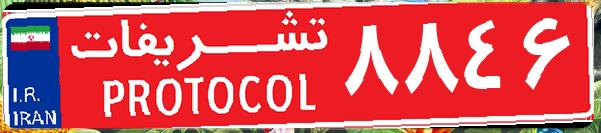4: (460, 20, 520, 115)
6: (520, 20, 580, 115)
8: (340, 20, 400, 115), (400, 20, 460, 115)
تشریفات: (60, 8, 340, 125)
